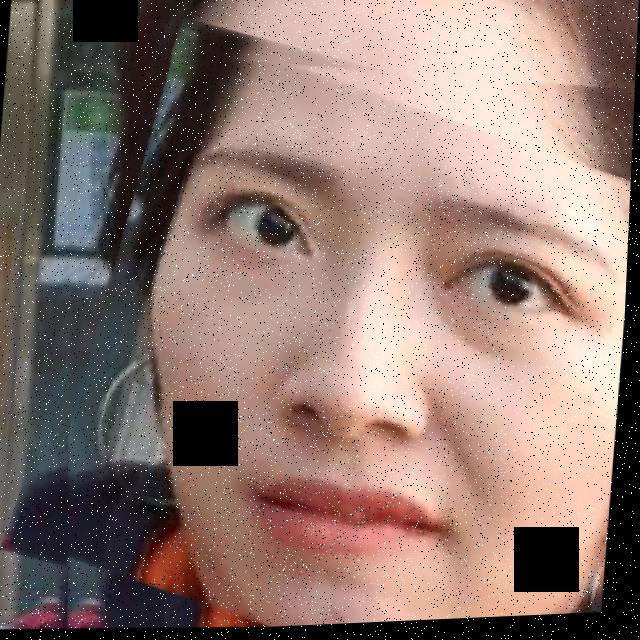anger: (30, 29, 638, 638)
